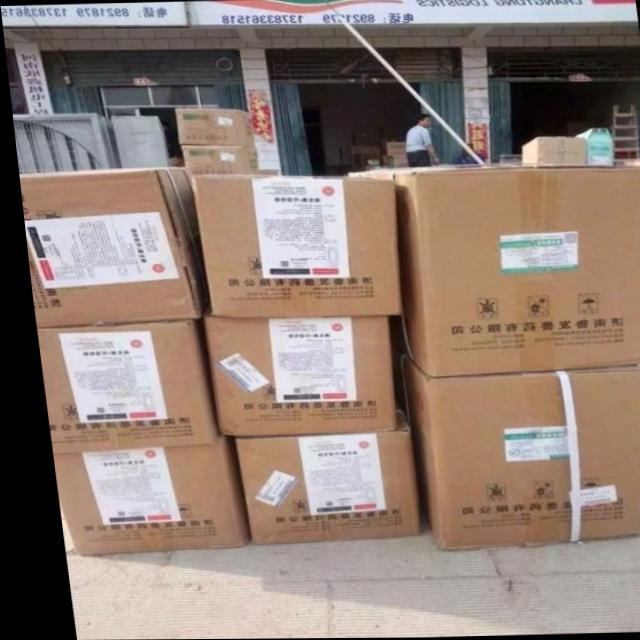box: (349, 164, 640, 374), (379, 320, 640, 553), (184, 172, 392, 314), (15, 170, 201, 325), (221, 414, 410, 542), (30, 324, 206, 455), (196, 318, 383, 440), (46, 434, 235, 552), (172, 110, 250, 149), (178, 145, 251, 177), (517, 136, 584, 164)
